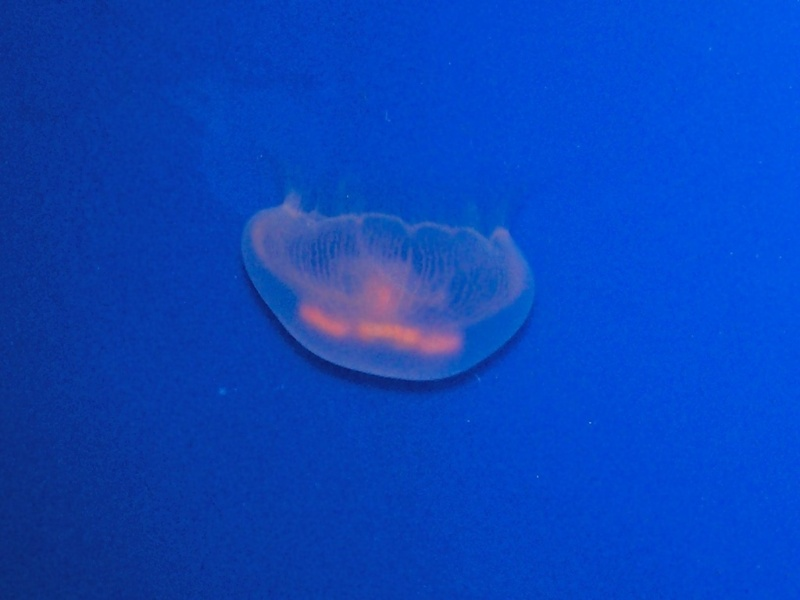Jellyfish: (237, 180, 531, 382)
